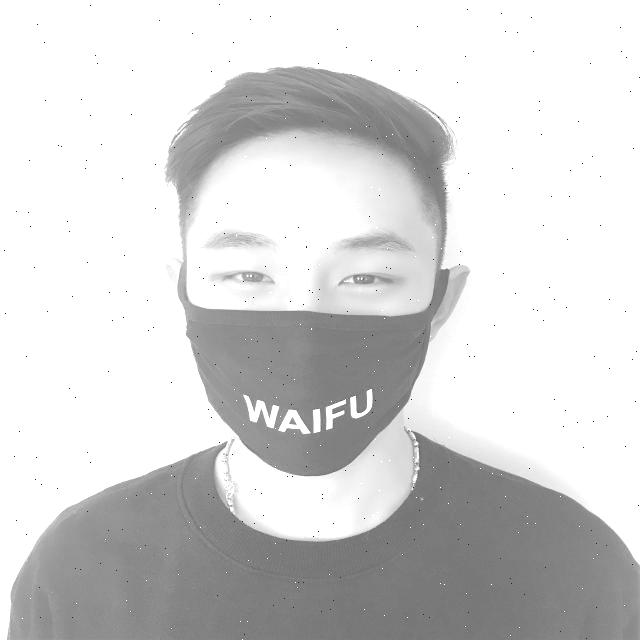fake: (171, 263, 457, 497)
real: (183, 126, 441, 483)
